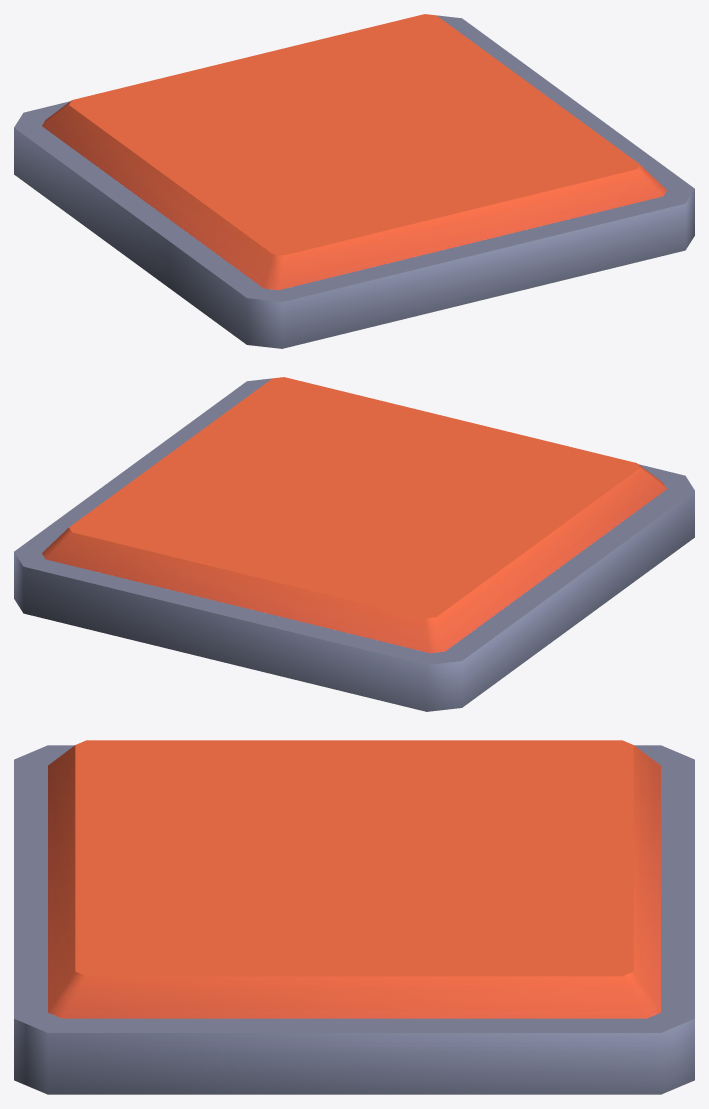
The model's file is kenney-prototype-button-floor-square.glb.
The picture shows the model from 3 angles, top to bottom: view 1: azimuth 30°, elevation 25°; view 2: azimuth 150°, elevation 25°; view 3: azimuth 270°, elevation 25°; orthographic projection. The views are drawn at different scales.
Parts seen in each view (by area): view 1: button, button-floor-square; view 2: button, button-floor-square; view 3: button, button-floor-square.
Part boxes in pixels (x1=…): button: x1=42, y1=14, x2=666, y2=290; button-floor-square: x1=14, y1=15, x2=694, y2=348; button: x1=42, y1=377, x2=666, y2=653; button-floor-square: x1=14, y1=378, x2=694, y2=711; button: x1=48, y1=740, x2=660, y2=1018; button-floor-square: x1=14, y1=745, x2=694, y2=1094.
Bounding box in the file's own units: 1 × 0.15 × 1.
1 material, 1 textured.
